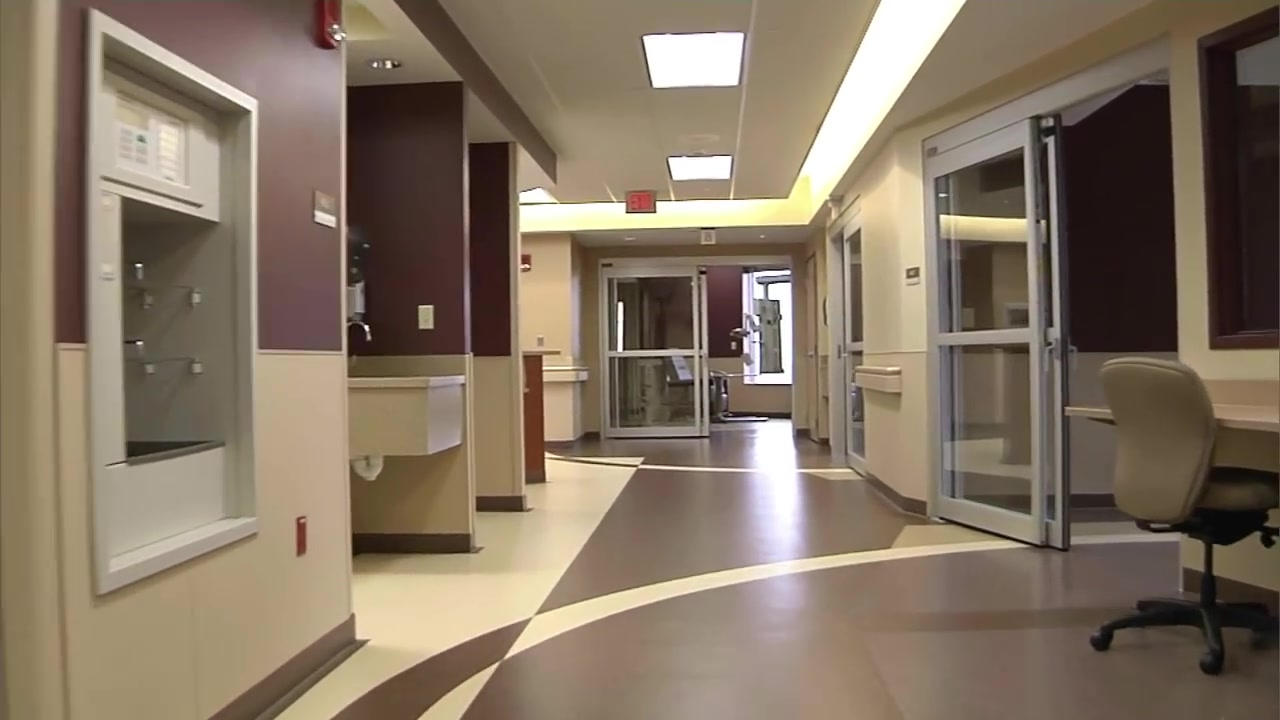chair: (1090, 355, 1280, 675)
countertop: (1064, 403, 1280, 431), (521, 348, 561, 356)
dispenser: (344, 268, 363, 314)
door_handle: (1041, 328, 1062, 377), (703, 353, 708, 365)
faucet: (346, 319, 371, 342)
hallway_assist_bar: (854, 365, 903, 374), (543, 364, 590, 370)
overbed_table: (710, 369, 762, 423)
sink: (347, 375, 465, 456)
sofa: (664, 345, 735, 426)
